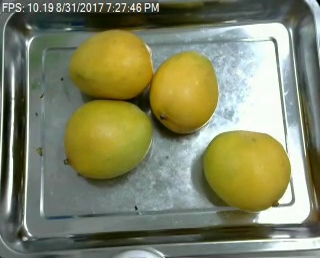Mango: (62, 97, 152, 180), (202, 130, 292, 210), (68, 29, 152, 99), (148, 51, 217, 132)
